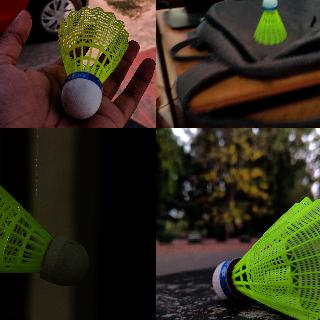shuttlecock: (212, 196, 319, 319), (0, 167, 89, 287), (58, 5, 128, 119), (252, 0, 287, 46)
